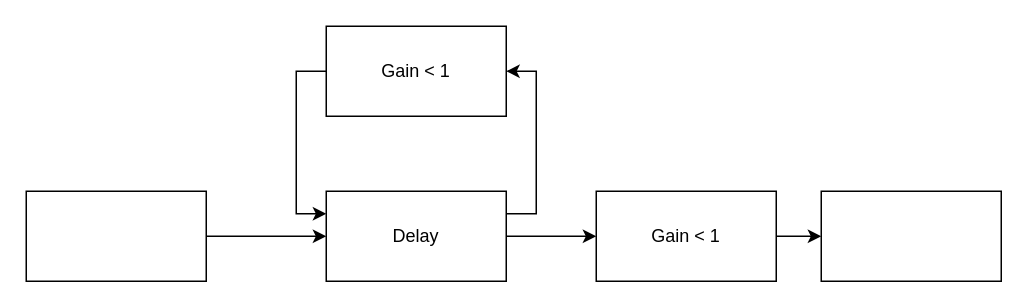
The diagram is 1028 pixels wide and 308 high, and some of its shapes have lost their labels. The box of each missing label's shape, as (x1, y1, x2, y2) in pixels:
Input: (25, 190, 206, 281)
Output: (820, 190, 1001, 281)
